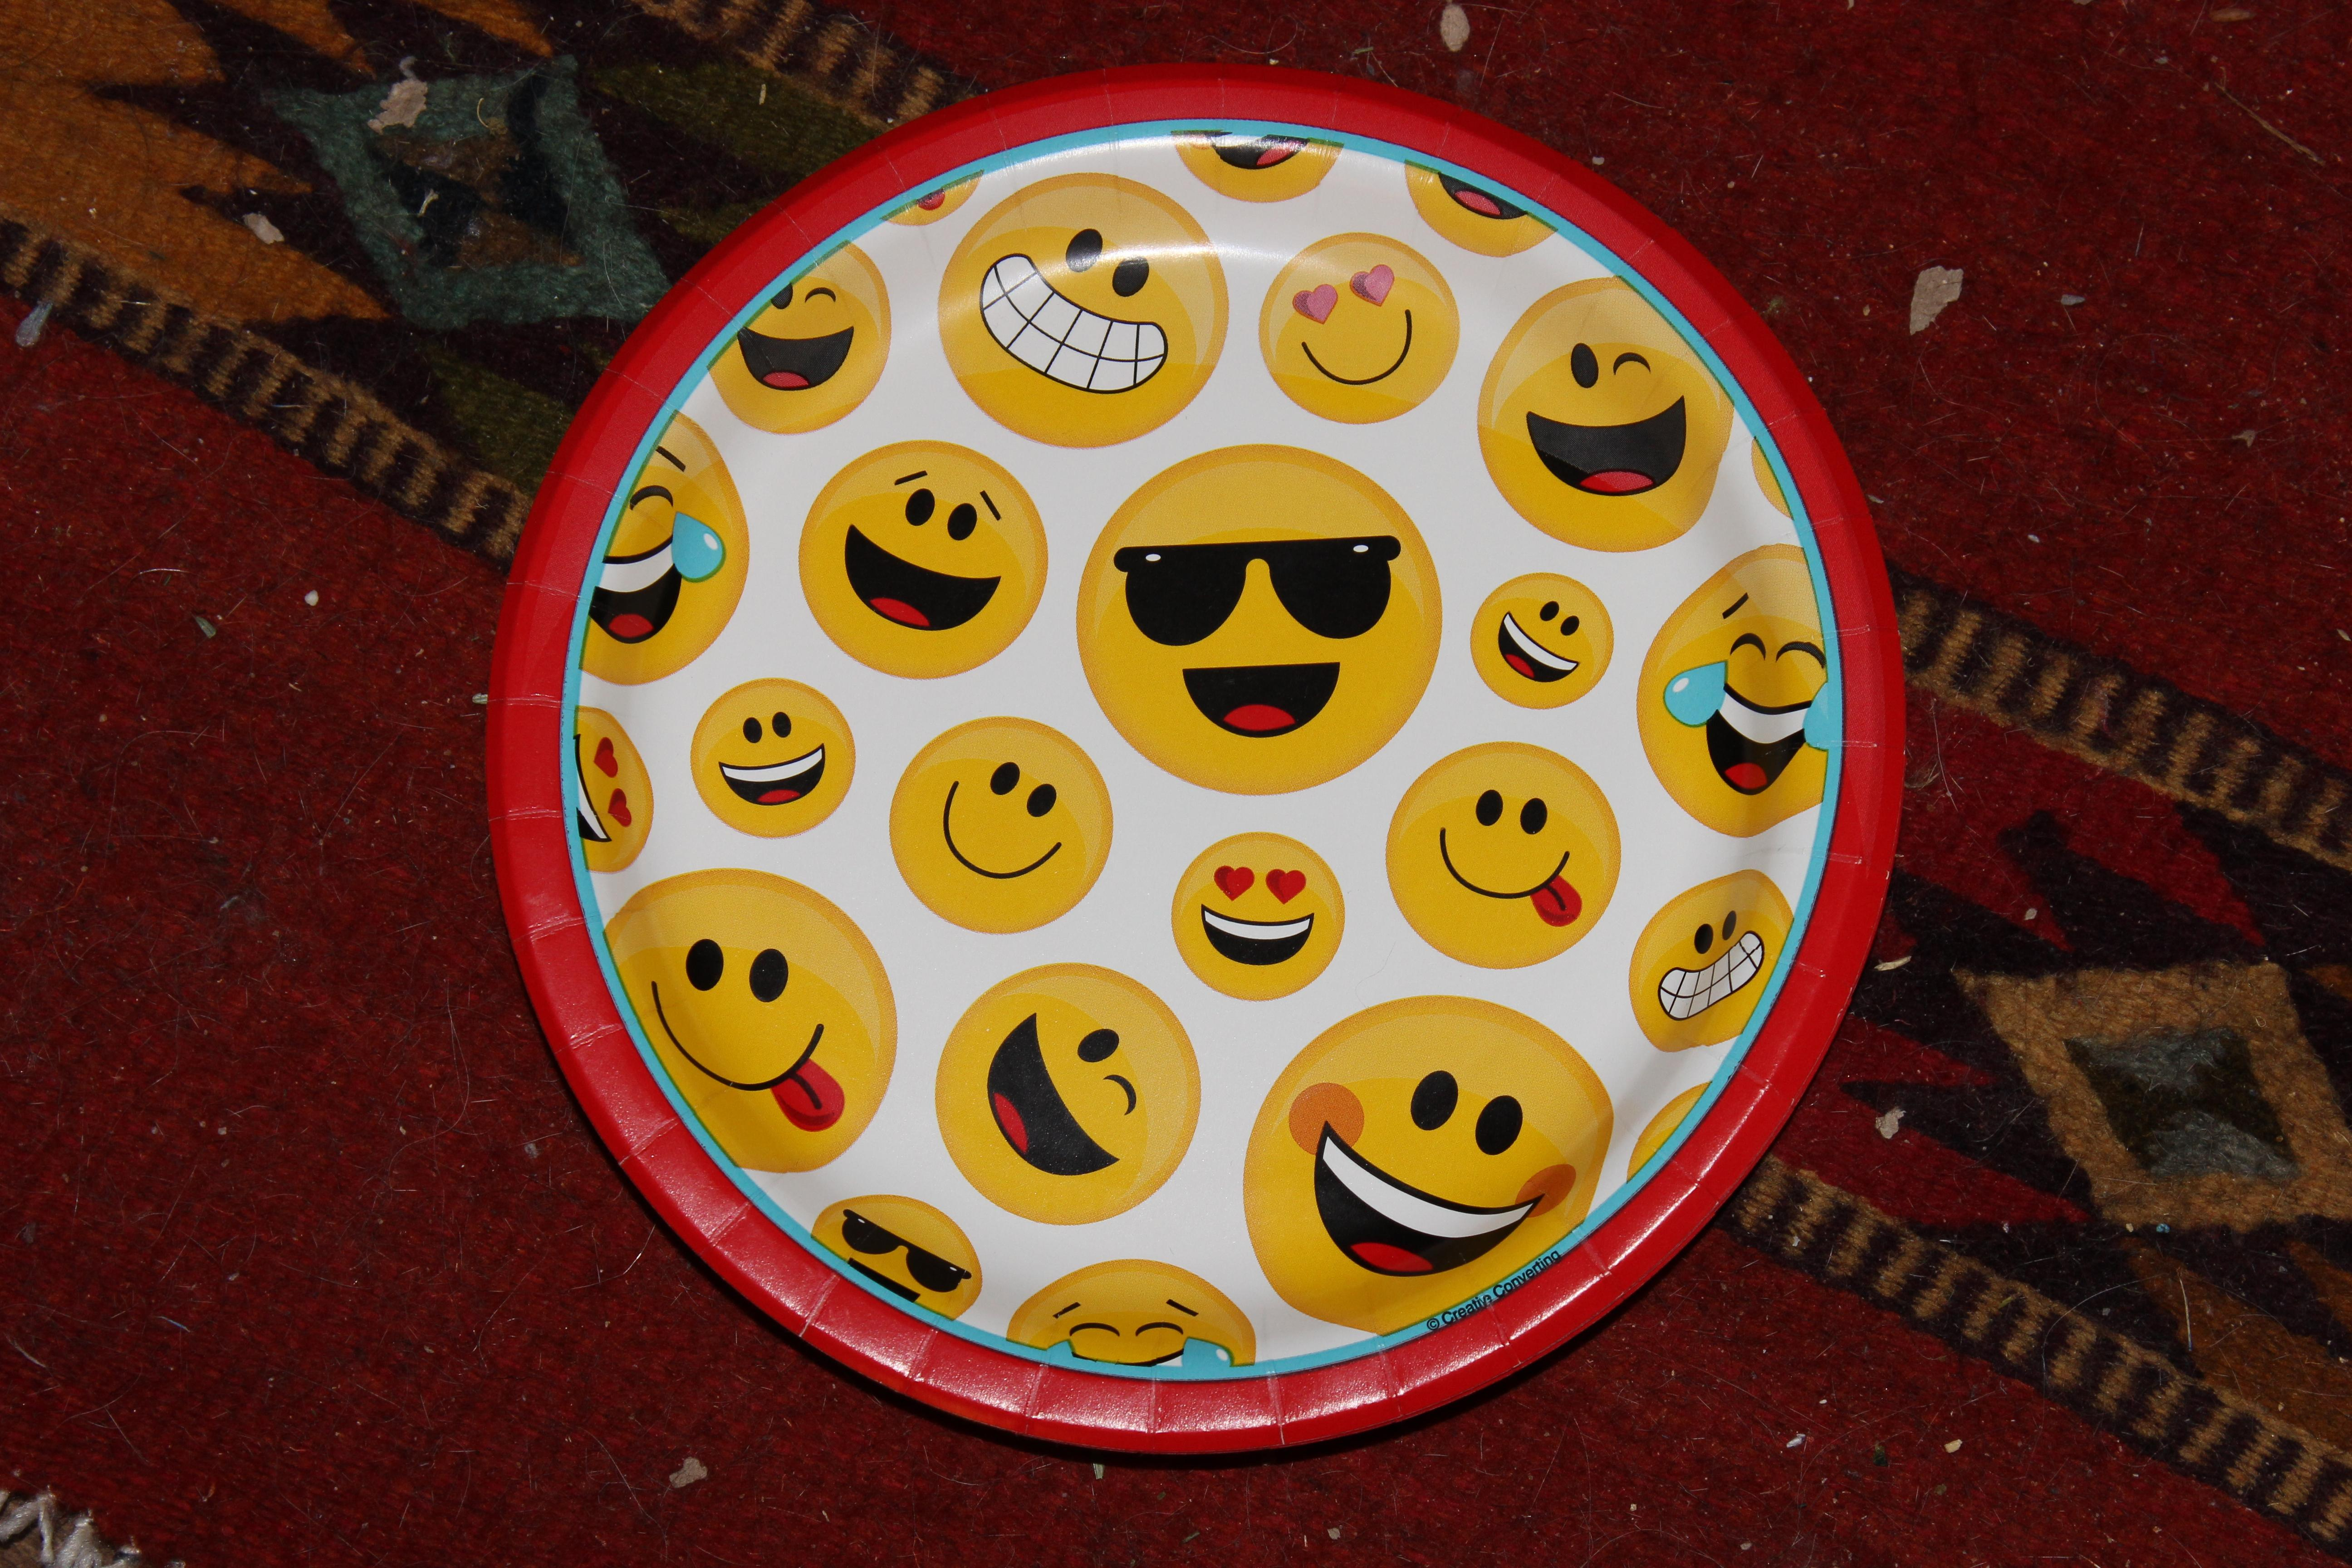paperPlate: (427, 32, 1972, 1507)
